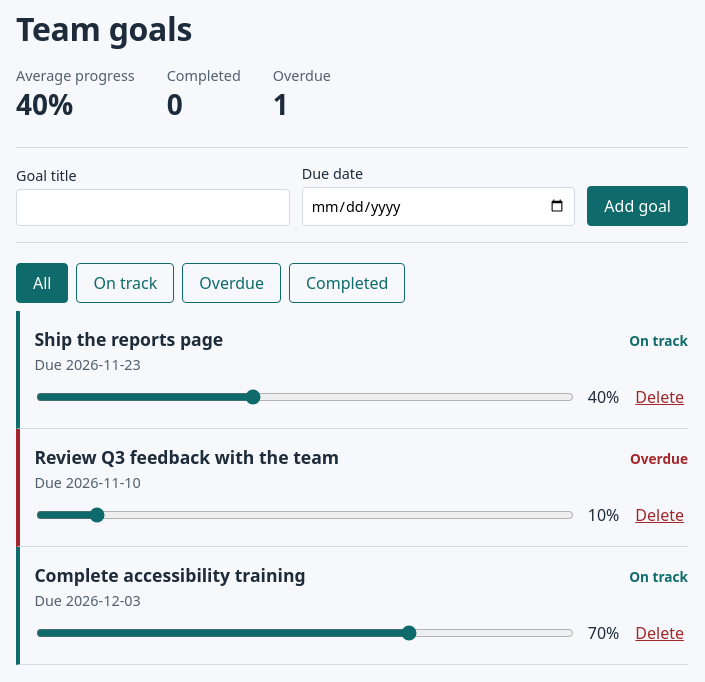
Test: App › deletes a goal
Click the 1st button "Delete" at coordinates (660, 397), box [631,382,688,412]
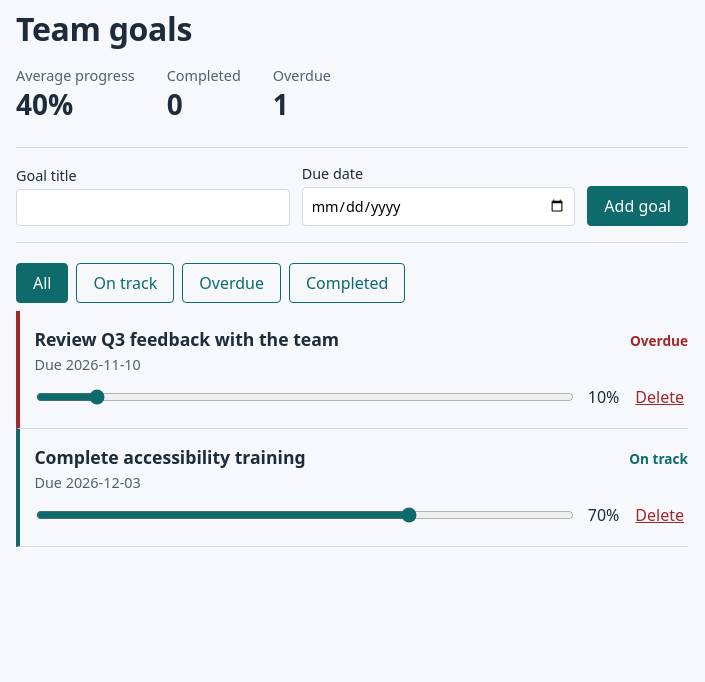
Now the heading "Ship the reports page" is gone
